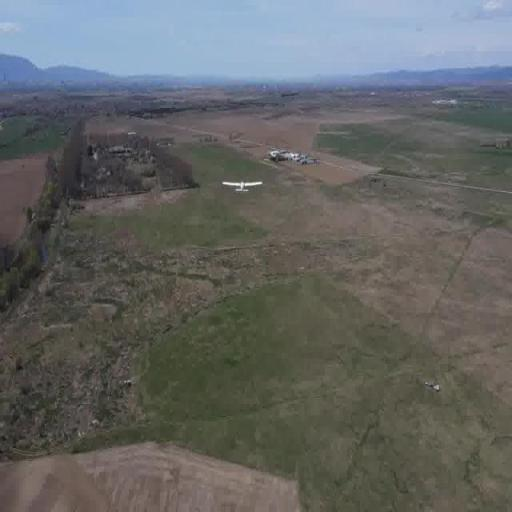uav: (220, 178, 266, 199)
